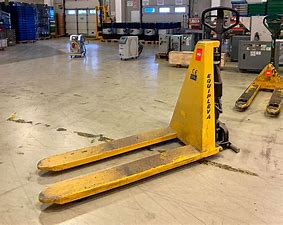Pallet Jack: (37, 5, 242, 205), (234, 13, 283, 121)
